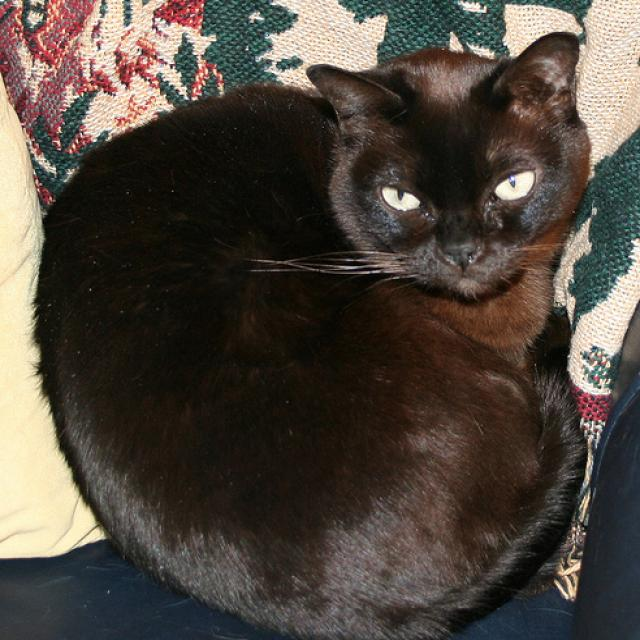left eye: (490, 165, 538, 202)
